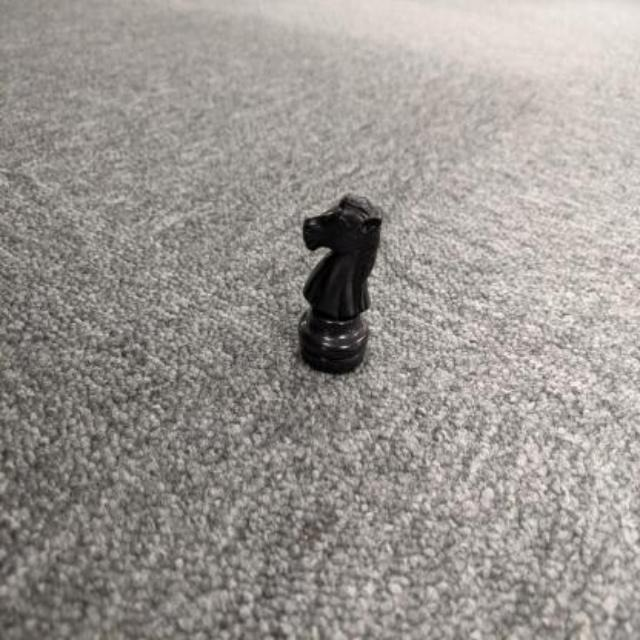black-knight: (299, 193, 383, 374)
